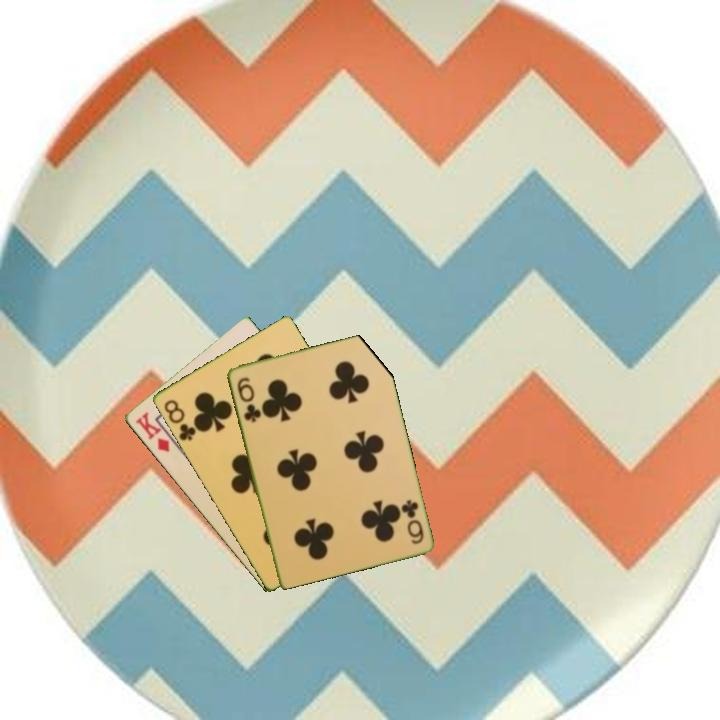6c: (233, 373, 263, 425), (398, 496, 426, 547)
8c: (160, 396, 201, 444)
Kd: (131, 408, 172, 456)
